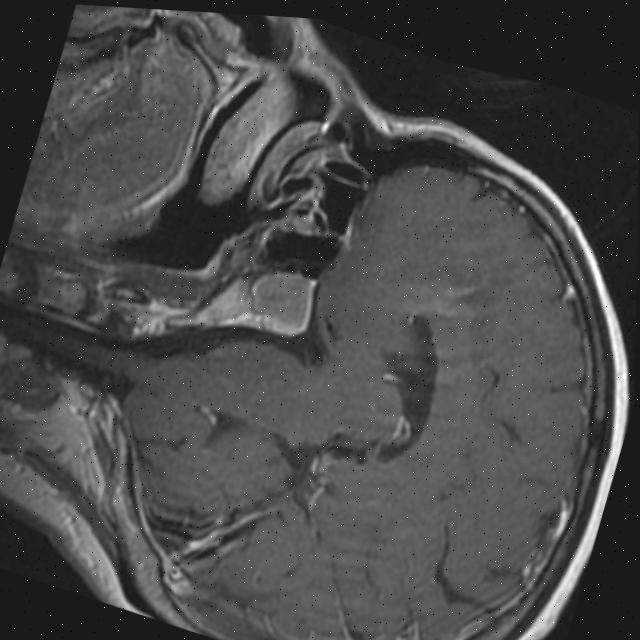Pituitary: (242, 258, 320, 341)
